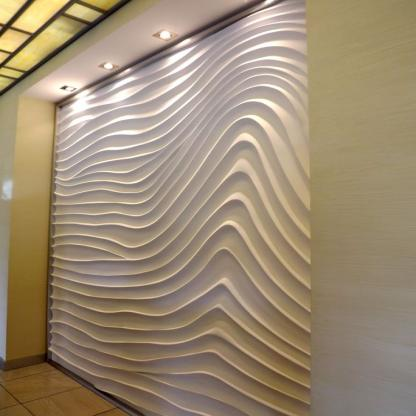Futech tiles: (74, 103, 306, 367)
